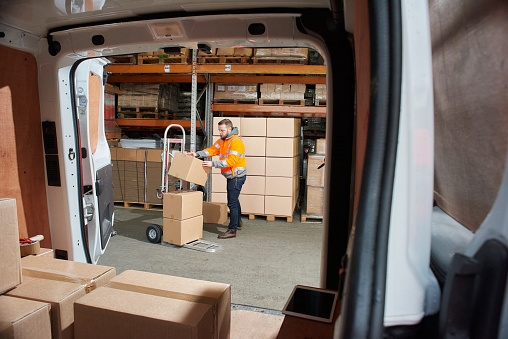em pe: (209, 117, 243, 234)
